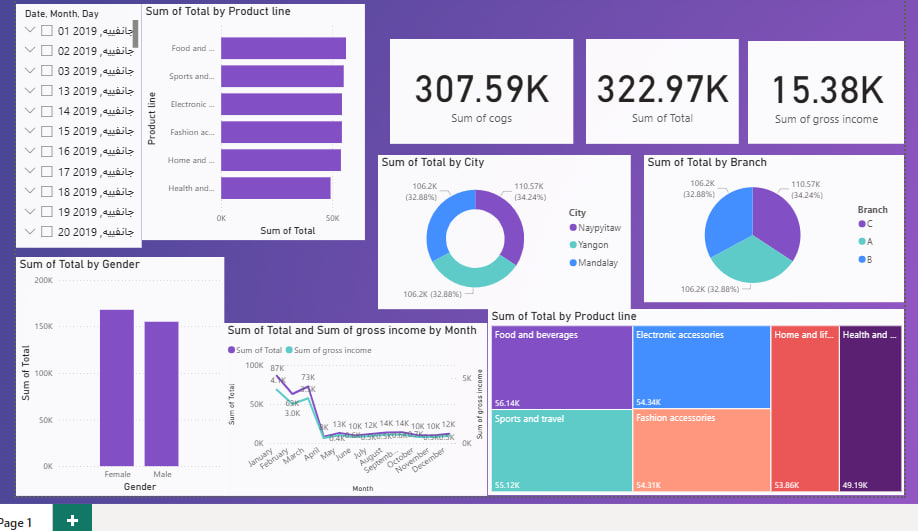

The dashboard page shown, as its layout file describes it:
{"tool":"powerbi","page":{"name":"Page 1","canvas":[1280,720],"ordinal":0},"visuals":[{"type":"card","fields":{"Values":["Sum(supermarket_sales - Sheet1.gross income)"]},"box":[1053.7,64.4,226.3,148.4],"z":0},{"type":"card","fields":{"Values":["Sum(supermarket_sales - Sheet1.Total)"]},"box":[821.4,61.5,220.3,151.4],"z":1},{"type":"card","fields":{"Values":["Sum(supermarket_sales - Sheet1.cogs)"]},"box":[538.1,61.5,263.8,151.4],"z":2},{"type":"pieChart","fields":{"Category":["supermarket_sales - Sheet1.Branch"],"Y":["Sum(supermarket_sales - Sheet1.Total)"]},"box":[903.8,212.8,376.2,227.8],"z":3},{"type":"donutChart","fields":{"Category":["supermarket_sales - Sheet1.City"],"Y":["Sum(supermarket_sales - Sheet1.Total)"]},"box":[521.6,229.3,364.2,221.8],"z":4},{"type":"treemap","fields":{"Group":["supermarket_sales - Sheet1.Product line"],"Values":["Sum(supermarket_sales - Sheet1.Total)"]},"box":[679,451.1,601,268.3],"z":5},{"type":"clusteredColumnChart","fields":{"Category":["supermarket_sales - Sheet1.Gender"],"Y":["Sum(supermarket_sales - Sheet1.Total)"]},"box":[0,425.7,299.8,293.8],"z":6},{"type":"slicer","fields":{"Values":["supermarket_sales - Sheet1.Date","supermarket_sales - Sheet1.Date.Variation.Date Hierarchy.Month","supermarket_sales - Sheet1.Date.Variation.Date Hierarchy.Day"]},"box":[0,61.5,181.4,352.2],"z":7},{"type":"lineChart","fields":{"Category":["supermarket_sales - Sheet1.Date.Variation.Date Hierarchy.Month"],"Y":["Sum(supermarket_sales - Sheet1.Total)"],"Y2":["Sum(supermarket_sales - Sheet1.gross income)"]},"box":[299.8,470.6,379.2,248.8],"z":13},{"type":"clusteredBarChart","fields":{"Category":["supermarket_sales - Sheet1.Product line"],"Y":["Sum(supermarket_sales - Sheet1.Total)"]},"box":[181.4,61.5,320.7,340.2],"z":14}]}

Visuals, with their boxes in screenshot pixels (x1, y1, x2, y2):
card - Sum(supermarket_sales - Sheet1.gross income): <bbox>757, 36, 917, 141</bbox>
card - Sum(supermarket_sales - Sheet1.Total): <bbox>593, 34, 749, 141</bbox>
card - Sum(supermarket_sales - Sheet1.cogs): <bbox>393, 34, 579, 141</bbox>
pieChart - supermarket_sales - Sheet1.Branch x Sum(supermarket_sales - Sheet1.Total): <bbox>651, 141, 917, 302</bbox>
donutChart - supermarket_sales - Sheet1.City x Sum(supermarket_sales - Sheet1.Total): <bbox>381, 153, 638, 309</bbox>
treemap - supermarket_sales - Sheet1.Product line x Sum(supermarket_sales - Sheet1.Total): <bbox>492, 309, 917, 499</bbox>
clusteredColumnChart - supermarket_sales - Sheet1.Gender x Sum(supermarket_sales - Sheet1.Total): <bbox>12, 292, 224, 499</bbox>
slicer - supermarket_sales - Sheet1.Date x supermarket_sales - Sheet1.Date.Variation.Date Hierarchy.Month: <bbox>12, 34, 140, 283</bbox>
lineChart - supermarket_sales - Sheet1.Date.Variation.Date Hierarchy.Month x Sum(supermarket_sales - Sheet1.Total): <bbox>224, 323, 492, 499</bbox>
clusteredBarChart - supermarket_sales - Sheet1.Product line x Sum(supermarket_sales - Sheet1.Total): <bbox>140, 34, 367, 275</bbox>
